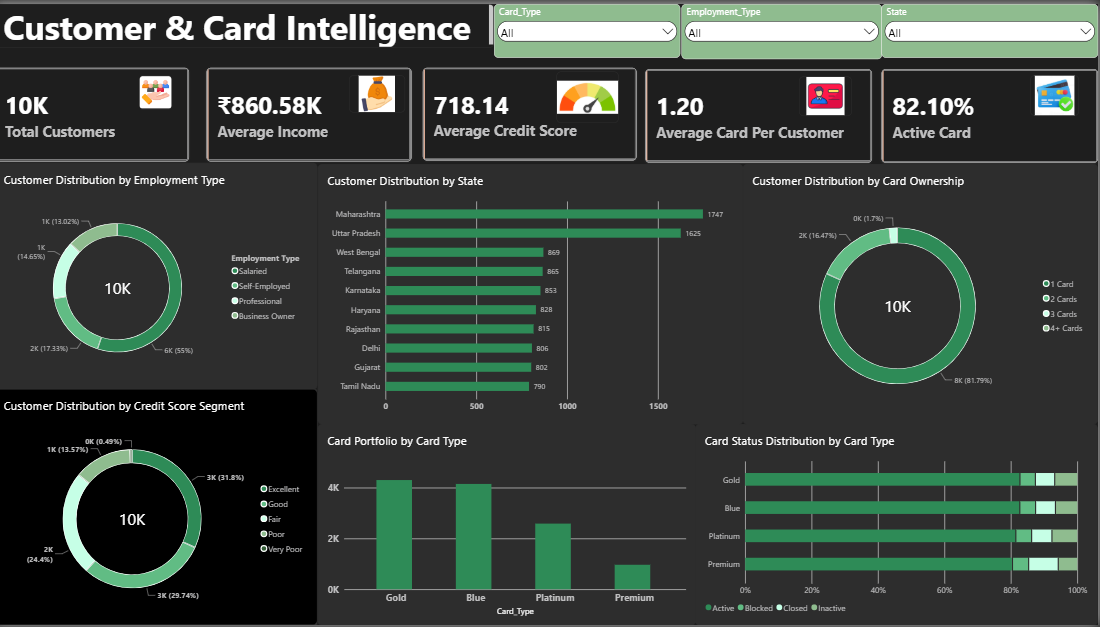

The dashboard page shown, as its layout file describes it:
{"tool":"powerbi","page":{"name":"Customer & Card Intelligence","canvas":[1920,1080],"ordinal":1},"visuals":[{"type":"cardVisual","fields":{"Data":["Customers.Average Income"]},"box":[370.3,111.5,356.9,162.8],"z":0},{"type":"cardVisual","fields":{"Data":["Customers.Total Customers"]},"box":[0,111.5,339,162.8],"z":1000},{"type":"cardVisual","fields":{"Data":["Customers.Average Credit Score"]},"box":[744.7,111.9,372.4,162],"z":2000},{"type":"cardVisual","fields":{"Data":["Customers.Average Card Per Customer"]},"box":[1133.1,113.8,394.8,162.8],"z":3000},{"type":"cardVisual","fields":{"Data":["Cards.Active Card %"]},"box":[1543.3,112.1,377.2,163.1],"z":4000},{"type":"donutChart","title":"Customer Distribution by Employment Type","fields":{"Category":["Customers.Employment_Type"],"Y":["Customers.Total Customers"]},"box":[0,275.5,562.7,394.1],"z":5000},{"type":"clusteredBarChart","title":"Customer Distribution by State","fields":{"Category":["Customers.State"],"Y":["Customers.Total Customers"]},"box":[562.7,277.2,740,452.6],"z":6000},{"type":"textbox","box":[0,0,869.9,75.8],"z":7000},{"type":"donutChart","title":"Customer Distribution by Credit Score Segment","fields":{"Category":["Customers.Credit Score Segment"],"Y":["Customers.Total Customers"]},"box":[0,669.6,562.7,410.8],"z":8000},{"type":"columnChart","title":"Card Portfolio by Card Type","fields":{"Category":["Cards.Card_Type"],"Y":["Cards.Total Cards"]},"box":[562.7,729.7,657.9,350.7],"z":9000},{"type":"hundredPercentStackedBarChart","title":"Card Status Distribution by Card Type","fields":{"Category":["Cards.Card_Type"],"Y":["Cards.Total Cards"],"Series":["Cards.Card_Status"]},"box":[1220.6,729.7,699.6,350.7],"z":10000},{"type":"donutChart","title":"Customer Distribution by Card Ownership","fields":{"Category":["Customers.Card Ownership Group"],"Y":["Customers.Total Customers"]},"box":[1302.4,277.2,617.8,452.5],"z":11000},{"type":"slicer","fields":{"Values":["Cards.Card_Type"]},"box":[870.5,0,324.1,93.8],"z":12000},{"type":"slicer","fields":{"Values":["Customers.Employment_Type"]},"box":[1194.7,0,348.6,95.8],"z":13000},{"type":"slicer","fields":{"Values":["Customers.State"]},"box":[1543.3,0,377.2,93.8],"z":14000},{"type":"image","box":[251.5,124.9,57.9,59.7],"z":15000},{"type":"image","box":[617.1,124.9,97.7,65.1],"z":16000},{"type":"image","box":[978.6,118.2,108,89.7],"z":17000},{"type":"image","box":[1400.7,126.7,92.3,68.8],"z":18000},{"type":"image","box":[1802.4,124.9,85.1,70.6],"z":19000}]}

Visuals, with their boxes in screenshot pixels (x1, y1, x2, y2), scaled from the page's 1920x1080 canvas onto the 1100x627 screenshot:
cardVisual - Customers.Average Income: 212,65,417,159
cardVisual - Customers.Total Customers: 0,65,194,159
cardVisual - Customers.Average Credit Score: 427,65,640,159
cardVisual - Customers.Average Card Per Customer: 649,66,875,161
cardVisual - Cards.Active Card %: 884,65,1099,160
"Customer Distribution by Employment Type" donutChart: 0,160,322,389
"Customer Distribution by State" clusteredBarChart: 322,161,746,424
textbox: 0,0,498,44
"Customer Distribution by Credit Score Segment" donutChart: 0,389,322,626
"Card Portfolio by Card Type" columnChart: 322,424,699,626
"Card Status Distribution by Card Type" hundredPercentStackedBarChart: 699,424,1099,626
"Customer Distribution by Card Ownership" donutChart: 746,161,1099,424
slicer - Cards.Card_Type: 499,0,684,54
slicer - Customers.Employment_Type: 684,0,884,56
slicer - Customers.State: 884,0,1099,54
image: 144,73,177,107
image: 354,73,410,110
image: 561,69,623,121
image: 802,74,855,113
image: 1033,73,1081,113
